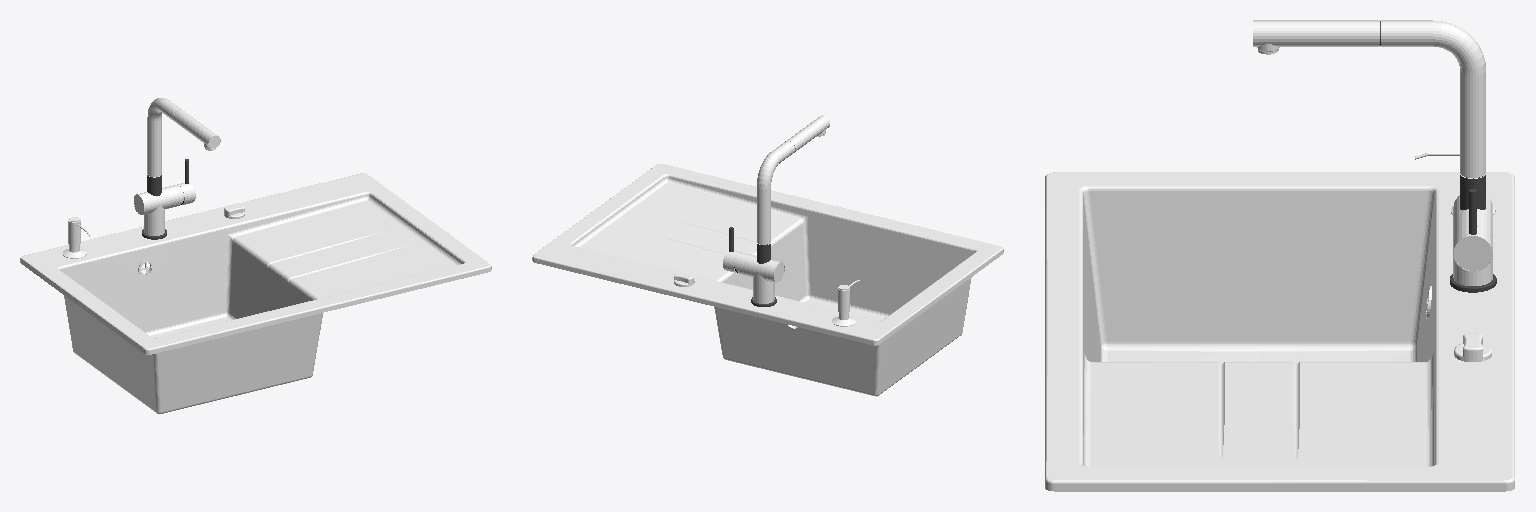
URDF robot description (sink):
<?xml version="1.0"?>
<robot name="sink">
  <material name="CHROME">
    <color rgba="1 1 1 1" />
  </material>
  <material name="SINK_LUXOR_r.001">
    <texture filename="visuals/increased_image0.png" />
    <color rgba="1 1 1 1" />
  </material>
  <material name="black_glossy_plastic">
    <texture filename="visuals/increased_image6.png" />
    <color rgba="1 1 1 1" />
  </material>
  <material name="fr_act_plus_chro">
    <color rgba="0.351345 0.351345 0.351345 1" />
  </material>
  <material name="fr_act_plus_plastick">
    <color rgba="0.022759 0.022759 0.022759 1" />
  </material>
  <material name="fr_act_plus_surface">
    <texture filename="visuals/increased_image3.png" />
    <color rgba="1 1 1 1" />
  </material>
  <material name="fr_act_plus_perlator_chro">
    <color rgba="1 1 1 1" />
  </material>

  <link name="base_link">
    <inertial>
      <origin xyz="0 0 0" rpy="0 0 0" />
      <mass value="10.0" />
      <inertia ixx="1" ixy="0" ixz="0" iyy="1" iyz="0" izz="1" />
    </inertial>
    <visual>
      <origin xyz="0 0 0" rpy="0 0 0" />
      <geometry>
        <mesh filename="visuals/model_0.obj" scale="1 1 1" />
      </geometry>
      <material name="SINK_LUXOR_r.001" />
    </visual>
    <visual>
      <origin xyz="0 0 0" rpy="0 0 0" />
      <geometry>
        <mesh filename="visuals/model_1.obj" scale="1 1 1" />
      </geometry>
      <material name="fr_act_plus_plastick" />
    </visual>
    <visual>
      <origin xyz="0 0 0" rpy="0 0 0" />
      <geometry>
        <mesh filename="visuals/model_2.obj" scale="1 1 1" />
      </geometry>
      <material name="fr_act_plus_chro" />
    </visual>
    <visual>
      <origin xyz="0 0 0" rpy="0 0 0" />
      <geometry>
        <mesh filename="visuals/model_3.obj" scale="1 1 1" />
      </geometry>
      <material name="fr_act_plus_surface" />
    </visual>
    <visual>
      <origin xyz="0 0 0" rpy="0 0 0" />
      <geometry>
        <mesh filename="visuals/model_4.obj" scale="1 1 1" />
      </geometry>
      <material name="CHROME" />
    </visual>
    <visual>
      <origin xyz="0 0 0" rpy="0 0 0" />
      <geometry>
        <mesh filename="visuals/model_5.obj" scale="1 1 1" />
      </geometry>
      <material name="SINK_LUXOR_r.001" />
    </visual>

    <collision>
      <origin xyz="-0.2 -0.027 -0.308" rpy="0 0 0" />
      <geometry>
        <box size="0.48 0.46 0.02" />
      </geometry>
    </collision>
    <collision>
      <origin xyz="-0.445 -0.027 -0.185" rpy="0 -0.11 0" />
      <geometry>
        <box size="0.02 0.48 0.232" />
      </geometry>
    </collision>
    <collision>
      <origin xyz="0.04 -0.027 -0.196" rpy="0 0.11 0" />
      <geometry>
        <box size="0.02 0.48 0.21" />
      </geometry>
    </collision>
    <collision>
      <origin xyz="-0.2 0.2 -0.185" rpy="-0.11 0 0" />
      <geometry>
        <box size="0.5 0.02 0.232" />
      </geometry>
    </collision>
    <collision>
      <origin xyz="-0.2 -0.26 -0.185" rpy="0.11 0 0" />
      <geometry>
        <box size="0.5 0.02 0.232" />
      </geometry>
    </collision>
    <collision>
      <origin xyz="0.25 -0.03 -0.098" rpy="0 -0.0175 0" />
      <geometry>
        <box size="0.4 0.476 0.02" />
      </geometry>
    </collision>
    <collision>
      <origin xyz="0 0.265 -0.08" rpy="0 0 0" />
      <geometry>
        <box size="1.0 0.118 0.03" />
      </geometry>
    </collision>
    <collision>
      <origin xyz="0 -0.292 -0.08" rpy="0 0 0" />
      <geometry>
        <box size="1.0 0.06 0.03" />
      </geometry>
    </collision>
    <collision>
      <origin xyz="0.472 0 -0.08" rpy="0 0 0" />
      <geometry>
        <box size="0.056 0.6 0.03" />
      </geometry>
    </collision>
    <collision>
      <origin xyz="-0.472 0 -0.08" rpy="0 0 0" />
      <geometry>
        <box size="0.056 0.6 0.03" />
      </geometry>
    </collision>
    <collision>
      <origin xyz="-0.14 0.2635 -0.02" rpy="0 0 0" />
      <geometry>
        <cylinder radius="0.028" length="0.1" />
      </geometry>
    </collision>
    <collision>
      <origin xyz="-0.14 0.2635 0.069" rpy="0 0 0" />
      <geometry>
        <cylinder radius="0.019" length="0.056" />
      </geometry>
    </collision>
    <collision>
      <origin xyz="-0.1427 0.263 0.0235" rpy="0 1.57 0" />
      <geometry>
        <cylinder radius="0.028" length="0.0856" />
      </geometry>
    </collision>
    <collision>
      <origin xyz="-0.37 0.2635 -0.02" rpy="0 0 0" />
      <geometry>
        <cylinder radius="0.017" length="0.096" />
      </geometry>
    </collision>
  </link>

  <link name="handle">
    <inertial>
      <origin xyz="0 0 0" rpy="0 0 0" />
      <mass value="0.2" />
      <inertia ixx="0.005" ixy="0" ixz="0" iyy="0.005" iyz="0" izz="0.005" />
    </inertial>
    <visual>
      <origin xyz="0.0699 -0.2635 -0.04" rpy="0 0 0" />
      <geometry>
        <mesh filename="visuals/handle_0.obj" scale="1 1 1" />
      </geometry>
      <material name="fr_act_plus_surface" />
    </visual>
    <visual>
      <origin xyz="0.0699 -0.2635 -0.04" rpy="0 0 0" />
      <geometry>
        <mesh filename="visuals/handle_1.obj" scale="1 1 1" />
      </geometry>
      <material name="fr_act_plus_chro" />
    </visual>
    <collision>
      <origin xyz="0.0169 0 -0.0165" rpy="0 1.57 0" />
      <geometry>
        <cylinder radius="0.028" length="0.034" />
      </geometry>
    </collision>
    <collision>
      <origin xyz="0.0229 0 0.04" rpy="0 0 0" />
      <geometry>
        <cylinder radius="0.006" length="0.068" />
      </geometry>
    </collision>
  </link>

  <link name="spout">
    <inertial>
      <origin xyz="0 0 0" rpy="0 0 0" />
      <mass value="1.0" />
      <inertia ixx="0.05" ixy="0" ixz="0" iyy="0.05" iyz="0" izz="0.05" />
    </inertial>
    <visual>
      <origin xyz="0.14 -0.263 -0.098" rpy="0 0 0" />
      <geometry>
        <mesh filename="visuals/spout_0.obj" scale="1 1 1" />
      </geometry>
      <material name="fr_act_plus_perlator_chro" />
    </visual>
    <visual>
      <origin xyz="0.14 -0.263 -0.098" rpy="0 0 0" />
      <geometry>
        <mesh filename="visuals/spout_1.obj" scale="1 1 1" />
      </geometry>
      <material name="fr_act_plus_chro" />
    </visual>
    <visual>
      <origin xyz="0.14 -0.263 -0.098" rpy="0 0 0" />
      <geometry>
        <mesh filename="visuals/spout_2.obj" scale="1 1 1" />
      </geometry>
      <material name="fr_act_plus_surface" />
    </visual>
    <collision>
      <origin xyz="0 0.0005 0.082" rpy="0 0 0" />
      <geometry>
        <cylinder radius="0.019" length="0.166" />
      </geometry>
    </collision>
    <collision>
      <origin xyz="0 -0.018 0.192" rpy="0.79 0 0" />
      <geometry>
        <cylinder radius="0.019" length="0.08" />
      </geometry>
    </collision>
    <collision>
      <origin xyz="0 -0.17 0.209" rpy="1.57 0 0" />
      <geometry>
        <cylinder radius="0.019" length="0.26" />
      </geometry>
    </collision>
    <collision>
      <origin xyz="0 -0.279 0.193" rpy="0 0 0" />
      <geometry>
        <cylinder radius="0.017" length="0.02" />
      </geometry>
    </collision>
  </link>

  <link name="handle_pitch">
    <inertial>
      <origin xyz="0 0 0" rpy="0 0 0" />
      <mass value="0.1" />
      <inertia ixx="0.002" ixy="0" ixz="0" iyy="0.002" iyz="0" izz="0.002" />
    </inertial>
  </link>

  <joint name="spout_joint" type="revolute">
    <parent link="base_link" />
    <child link="spout" />
    <origin xyz="-0.14 0.263 0.098" rpy="0 0 0" />
    <axis xyz="0 0 1" />
    <limit lower="-1.57" upper="1.57" effort="5" velocity="1" />
    <dynamics damping="1" />
  </joint>

  <joint name="handle_temp_joint" type="revolute">
    <parent link="base_link" />
    <child link="handle_pitch" />
    <origin xyz="-0.0699 0.2635 0.0235" rpy="0 0 0" />
    <axis xyz="1 0 0" />
    <limit lower="-0.79" upper="0.79" effort="5" velocity="1" />
    <dynamics damping="0.1" />
  </joint>

  <joint name="handle_joint" type="revolute">
    <parent link="handle_pitch" />
    <child link="handle" />
    <origin xyz="0 0 0.0165" rpy="0 0 0" />
    <axis xyz="0 1 0" />
    <limit lower="0" upper="0.52" effort="5" velocity="1" />
    <dynamics damping="0.1" />
  </joint>
</robot>

--- Facts derived from the render (not from the file) ---
The picture shows the robot from 3 angles, left to right: view 1: azimuth 30°, elevation 25°; view 2: azimuth 150°, elevation 25°; view 3: azimuth 270°, elevation 25°; orthographic projection.
Robot: sink — 4 links, 3 joints (3 revolute); root link base_link; default pose: all joints at 0.
Visible links, largest first — view 1: base_link, spout; view 2: base_link, spout; view 3: base_link, spout, handle.
Link boxes in pixels (x1,y1,x2,y2): base_link: (20,173,491,413); spout: (147,98,220,177); base_link: (532,164,1003,396); spout: (757,115,829,244); base_link: (1045,153,1514,491); spout: (1253,20,1485,178); handle: (1453,189,1492,271).
Size in the robot's own frame: 1 by 0.6411 by 0.6483 metres.
11 mesh visuals loaded from 11 distinct referenced files (11 OBJ).